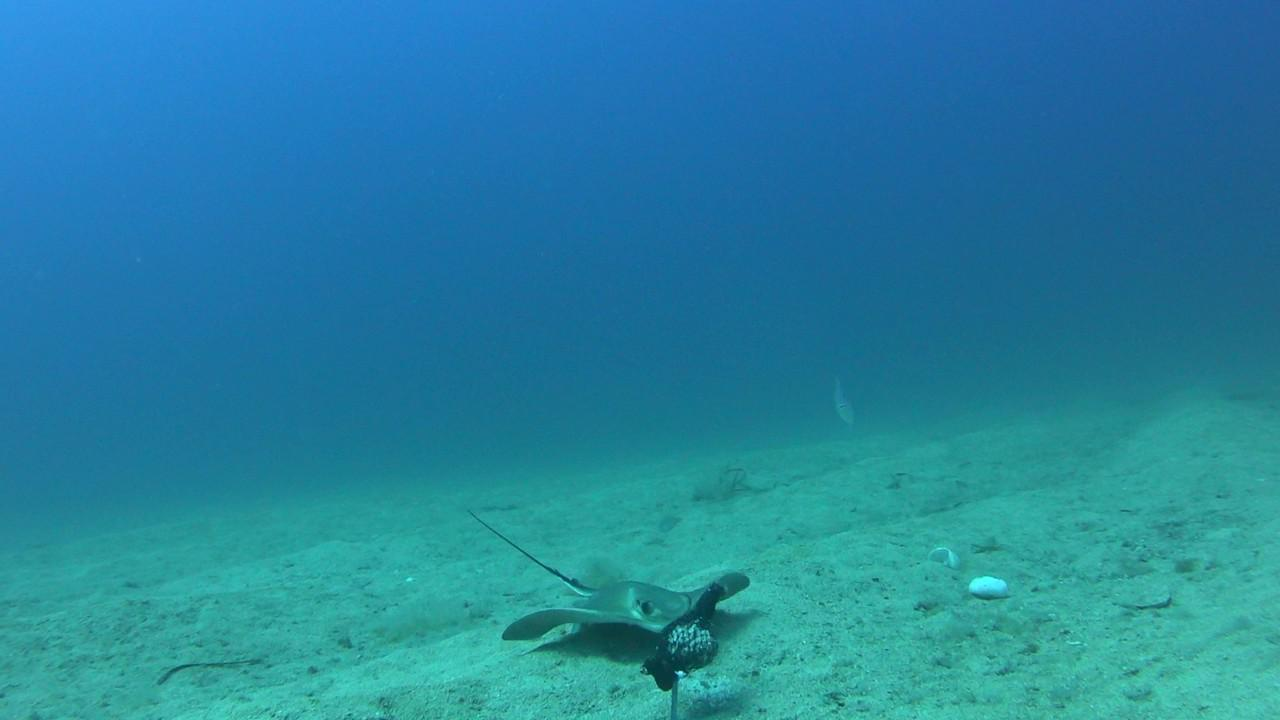myliobatis: (436, 490, 772, 645)
